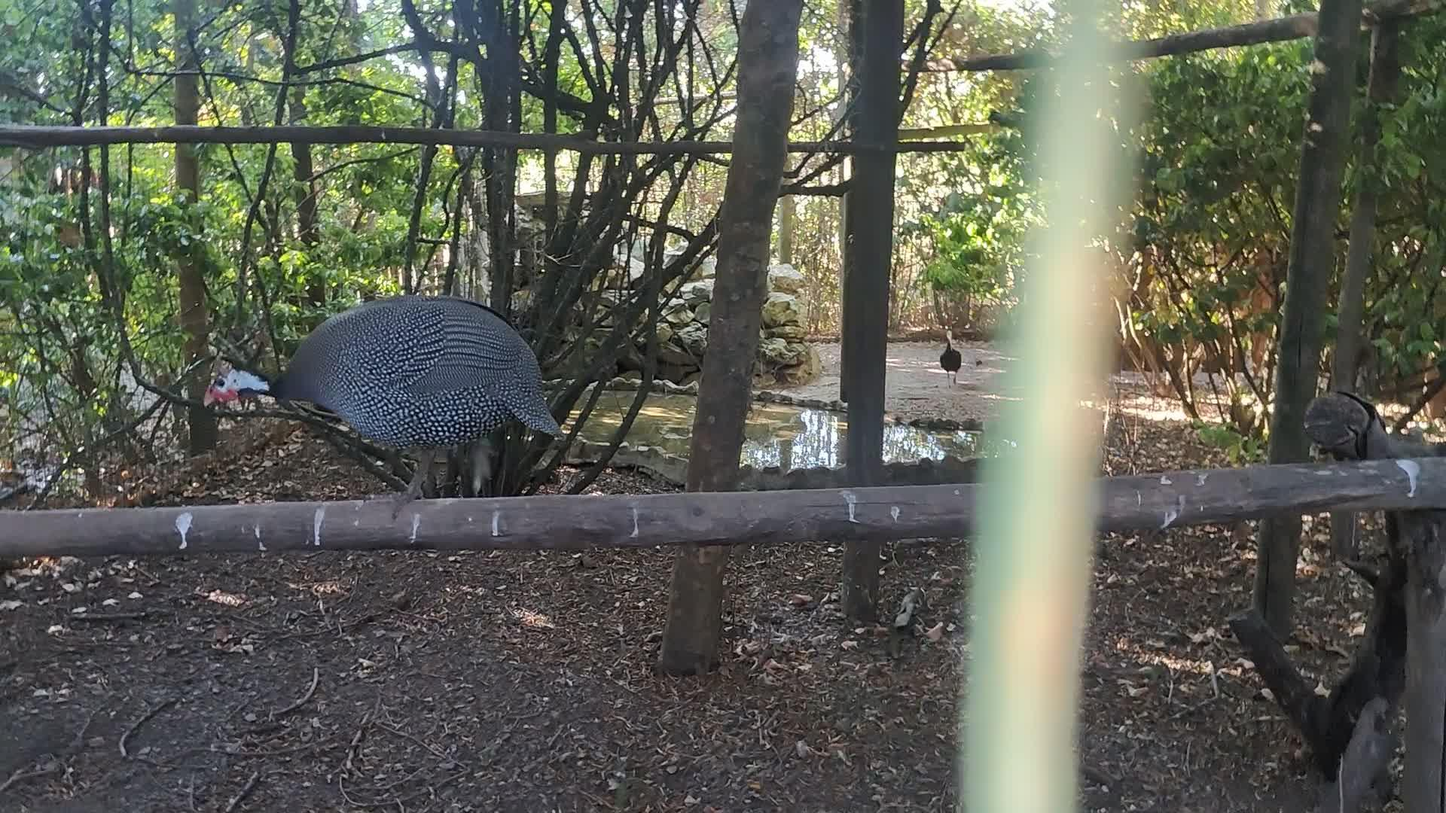apple: (204, 294, 566, 520), (940, 330, 962, 389)
